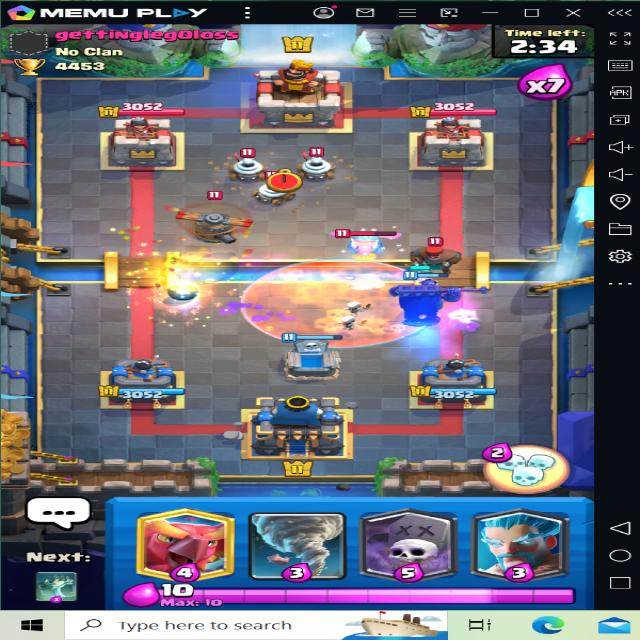Babydragon: (325, 229, 405, 264)
Flyingmachine: (164, 192, 262, 246)
Zappies: (290, 144, 338, 180), (256, 170, 306, 202), (221, 146, 266, 178)
hunter: (404, 234, 471, 277)
